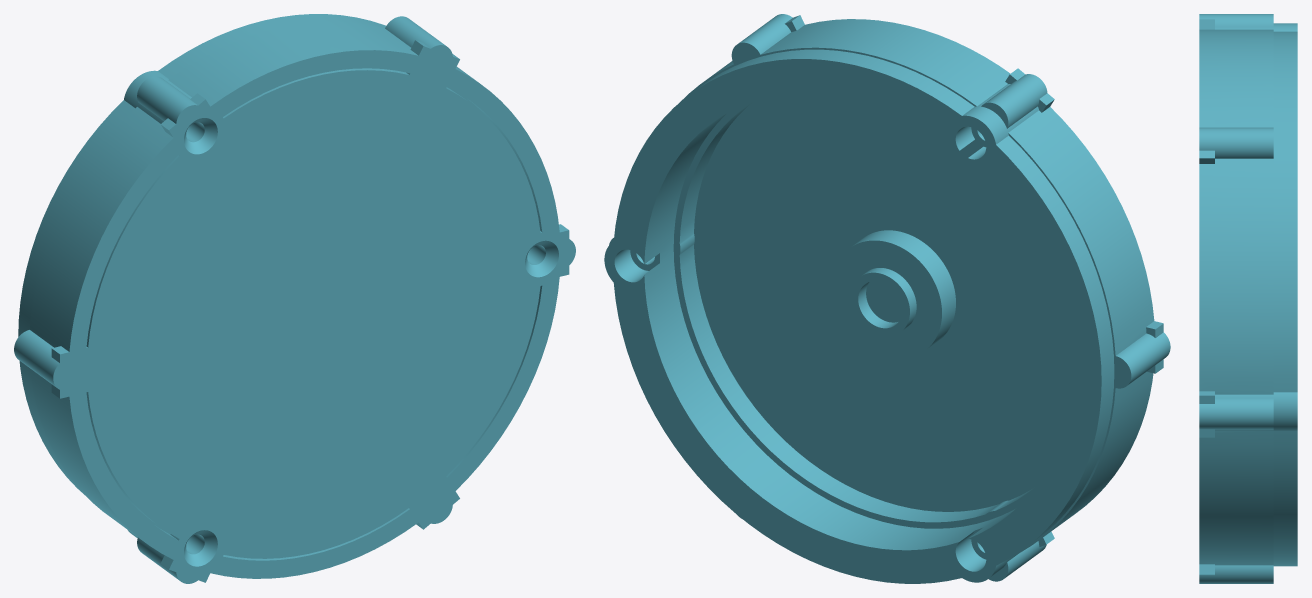
The model's file is Cap_ships_wheel.glb.
3 views of the same model, side by side, from view 1: azimuth 30°, elevation 25°; view 2: azimuth 150°, elevation 25°; view 3: azimuth 270°, elevation 25° (orthographic). The views are drawn at different scales.
Visible parts, largest first — view 1: Cap_ships_wheel_0; view 2: Cap_ships_wheel_0; view 3: Cap_ships_wheel_0.
Part boxes in pixels (x1=…): Cap_ships_wheel_0: x1=14, y1=14, x2=575, y2=583; Cap_ships_wheel_0: x1=604, y1=14, x2=1170, y2=583; Cap_ships_wheel_0: x1=1199, y1=14, x2=1297, y2=583.
Bounding box in the file's own units: 61.6 × 58 × 10.6.
